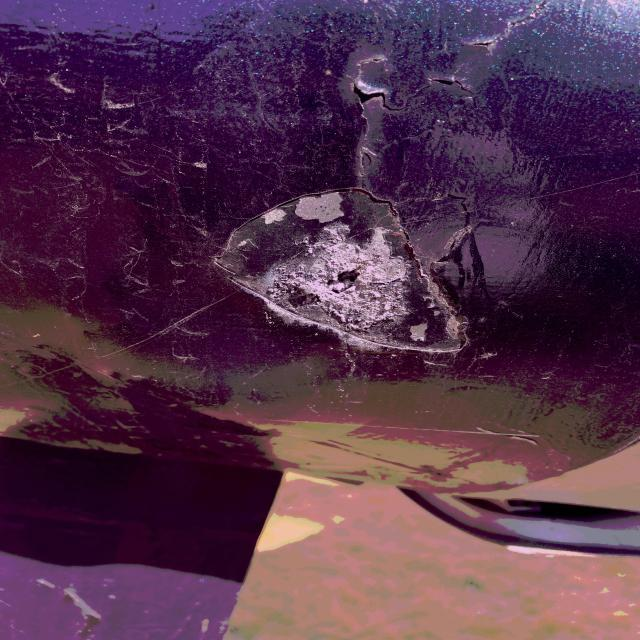crack: (416, 60, 504, 118), (471, 21, 544, 66), (341, 61, 399, 112)
dent: (187, 190, 539, 358)
